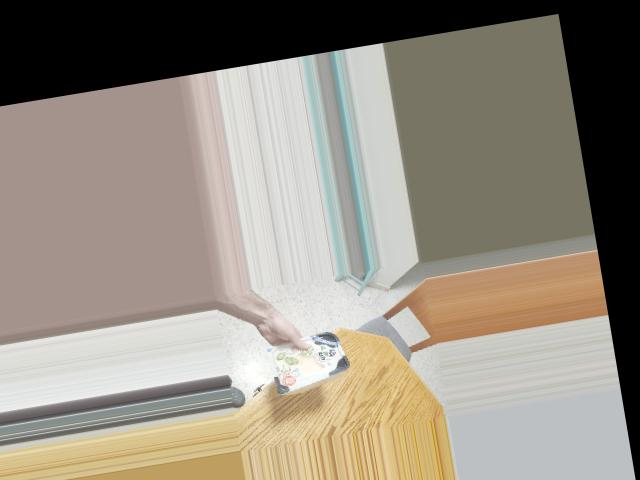cheese: (278, 323, 344, 393)
